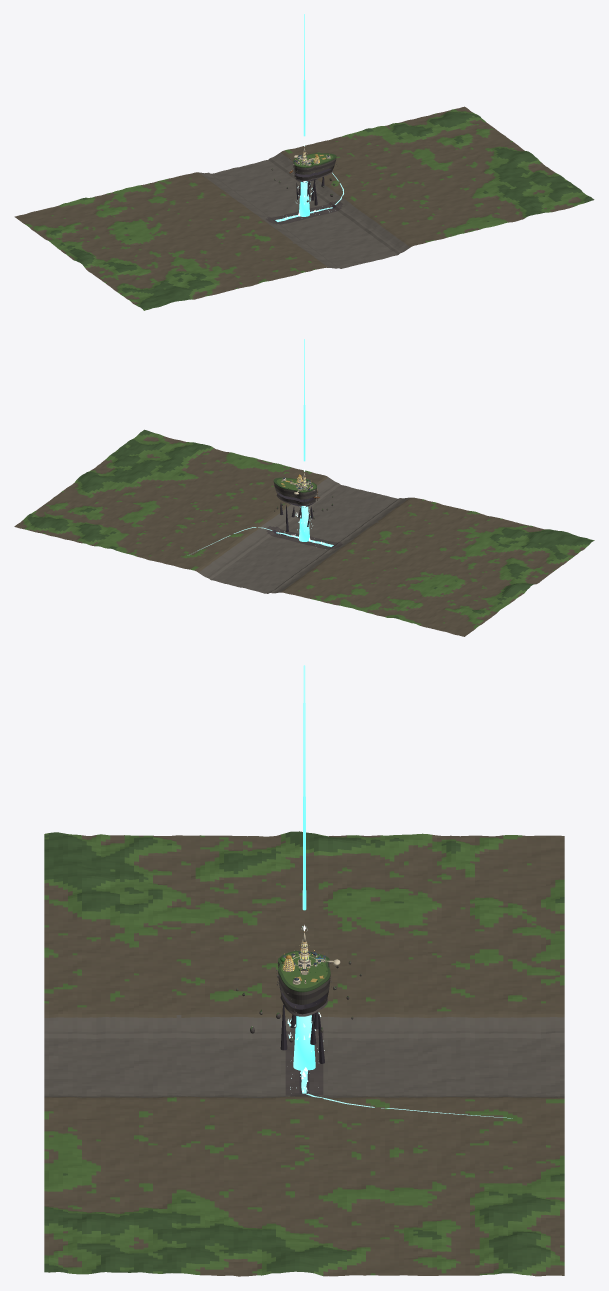
The model's file is academy.glb.
3 renders of one model, top to bottom at view 1: azimuth 30°, elevation 25°; view 2: azimuth 150°, elevation 25°; view 3: azimuth 270°, elevation 25°, orthographic. The views are drawn at different scales.
Parts seen in each view (by area): view 1: ground, island, light_pillar; view 2: ground, island, light_pillar; view 3: ground, island, light_pillar.
Part boxes in pixels (box(x1,y1,x2,y2)): ground: box(14, 106, 594, 310); island: box(293, 153, 338, 205); light_pillar: box(299, 14, 309, 216); ground: box(14, 429, 594, 636); island: box(273, 477, 318, 532); light_pillar: box(299, 339, 309, 541); ground: box(44, 831, 564, 1276); island: box(276, 951, 331, 1063); light_pillar: box(293, 665, 315, 1070).
Size of the model in its own units: 2400 by 1022 by 1200.
